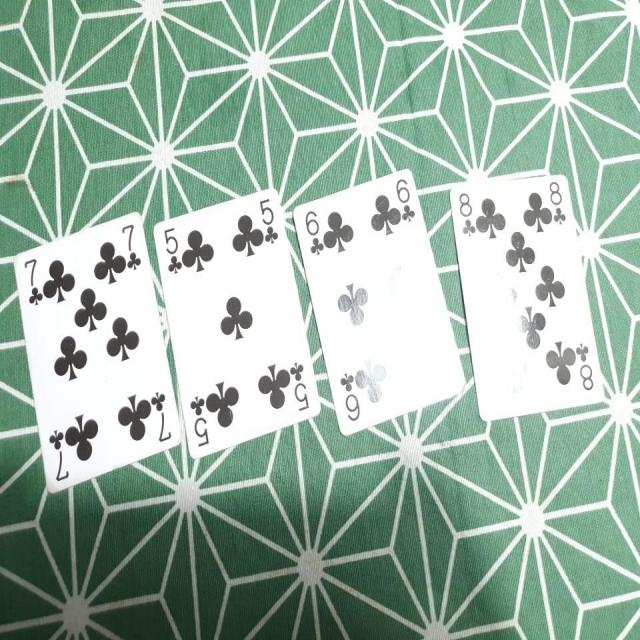5 Trefoils: (151, 188, 319, 458)
6 Trefoils: (293, 165, 469, 438)
7 Trefoils: (11, 211, 182, 497)
8 Trefoils: (449, 174, 605, 422)
